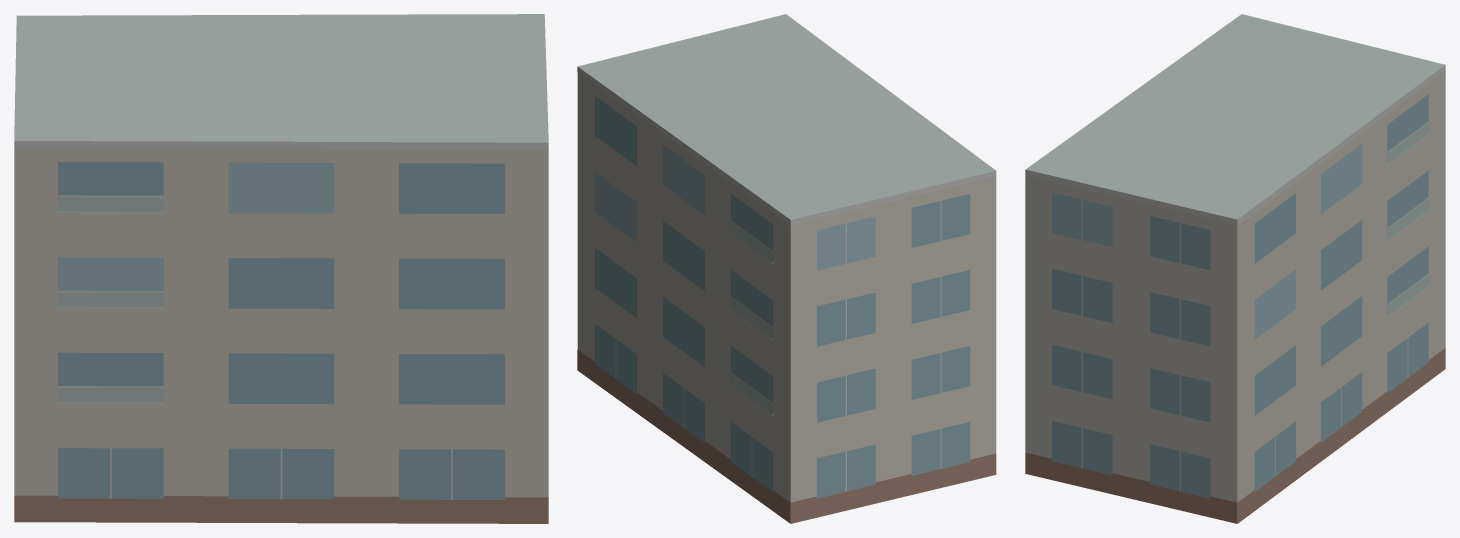
Rendered from survey-upis-32743863.glb.
3 renders of one model, left to right at view 1: azimuth 30°, elevation 25°; view 2: azimuth 150°, elevation 25°; view 3: azimuth 270°, elevation 25°, orthographic. The views are drawn at different scales.
Visible parts, largest first — view 1: survey-upis-32743863.tmp; view 2: survey-upis-32743863.tmp; view 3: survey-upis-32743863.tmp.
Boxes of the visible parts, left/top/right/bottom form: survey-upis-32743863.tmp: left=14, top=14, right=548, bottom=523; survey-upis-32743863.tmp: left=577, top=14, right=996, bottom=523; survey-upis-32743863.tmp: left=1025, top=14, right=1445, bottom=523.
Bounding box in the file's own units: 18.56 × 12.8 × 16.02.
